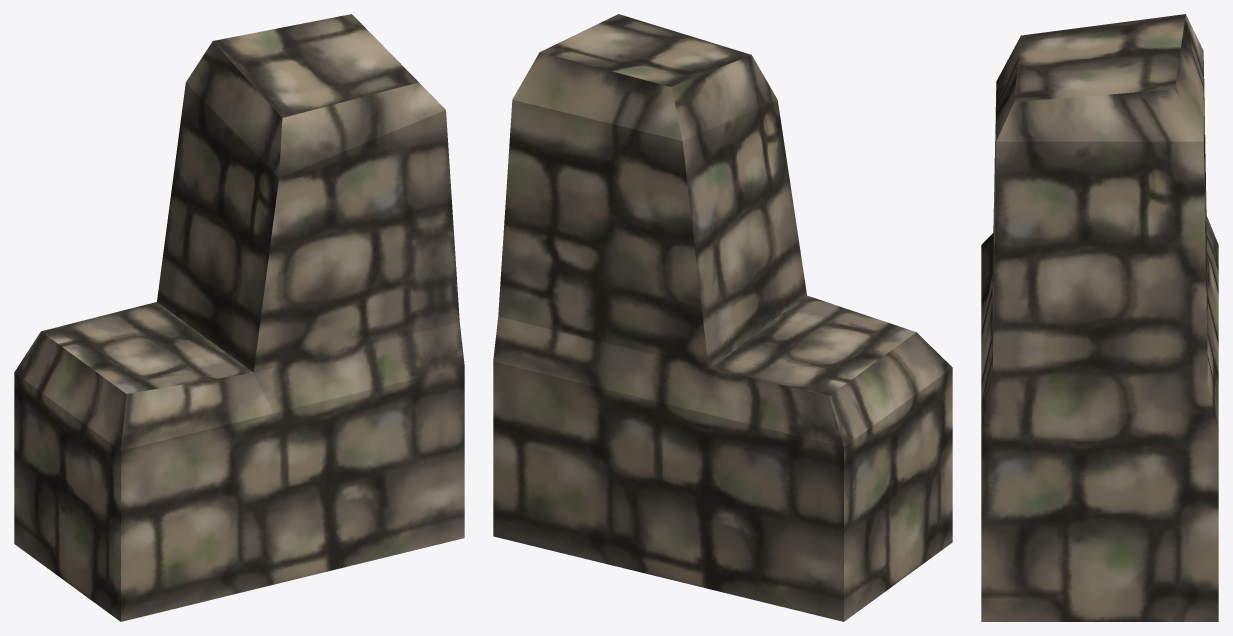
Rendered from stoneArtifact.fbx.
3 renders of one model, left to right at view 1: azimuth 30°, elevation 25°; view 2: azimuth 150°, elevation 25°; view 3: azimuth 270°, elevation 25°, orthographic. The views are drawn at different scales.
Visible parts, largest first — view 1: Cube; view 2: Cube; view 3: Cube.
Part boxes in pixels (x1=…): Cube: x1=14, y1=14, x2=464, y2=621; Cube: x1=493, y1=14, x2=952, y2=621; Cube: x1=981, y1=14, x2=1218, y2=621.
Bounding box in the file's own units: 222 × 290 × 119.
